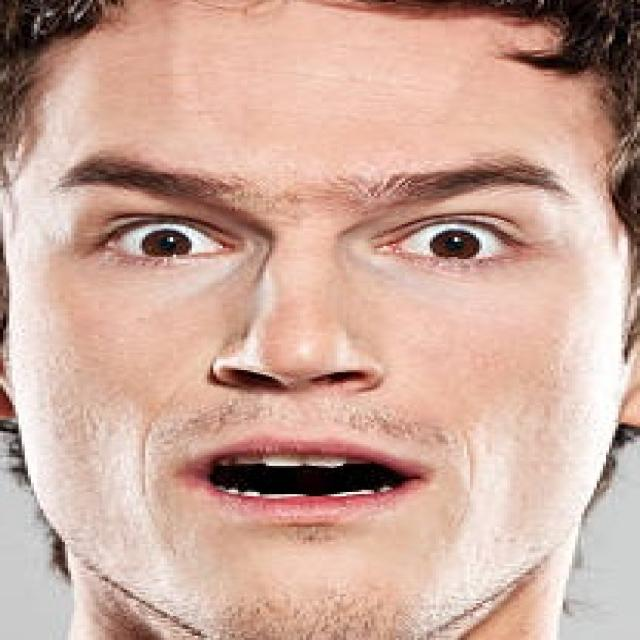Anxiety: (10, 2, 635, 638)
